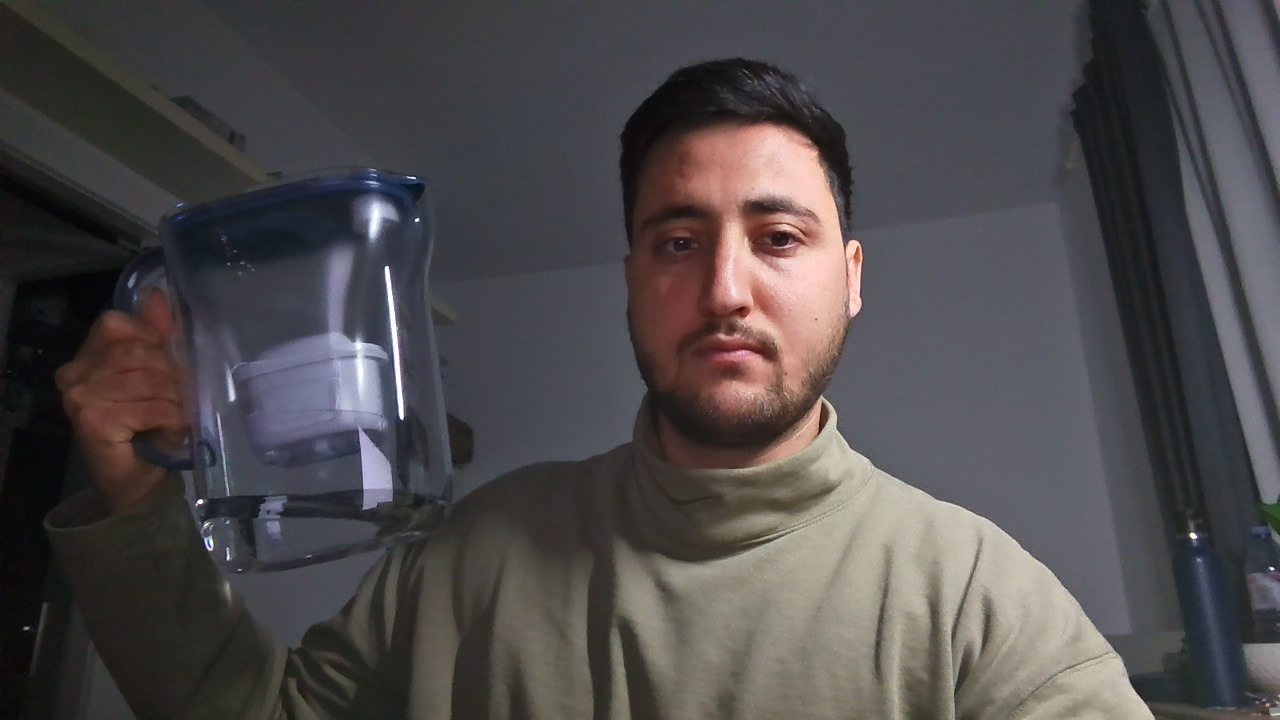Wasserflasche: (1147, 494, 1262, 716)
Wasserkanne: (82, 170, 485, 555)
me: (565, 34, 907, 468)
